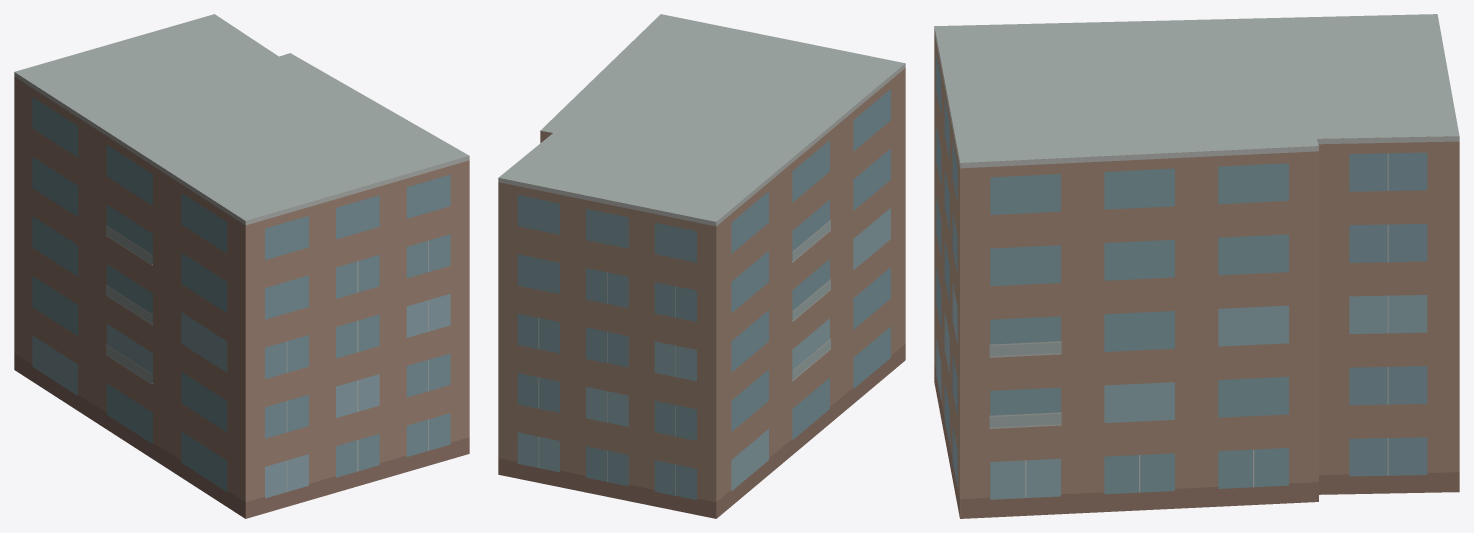
The model's file is survey-upis-32909671.glb.
3 renders of one model, left to right at view 1: azimuth 30°, elevation 25°; view 2: azimuth 150°, elevation 25°; view 3: azimuth 270°, elevation 25°, orthographic. The views are drawn at different scales.
Parts seen in each view (by area): view 1: survey-upis-32909671.tmp; view 2: survey-upis-32909671.tmp; view 3: survey-upis-32909671.tmp.
Part boxes in pixels (<box>): survey-upis-32909671.tmp: <box>14,14,469,518</box>; survey-upis-32909671.tmp: <box>498,14,905,518</box>; survey-upis-32909671.tmp: <box>934,14,1459,518</box>.
Bounding box in the file's own units: 14.56 × 16.2 × 21.68.
